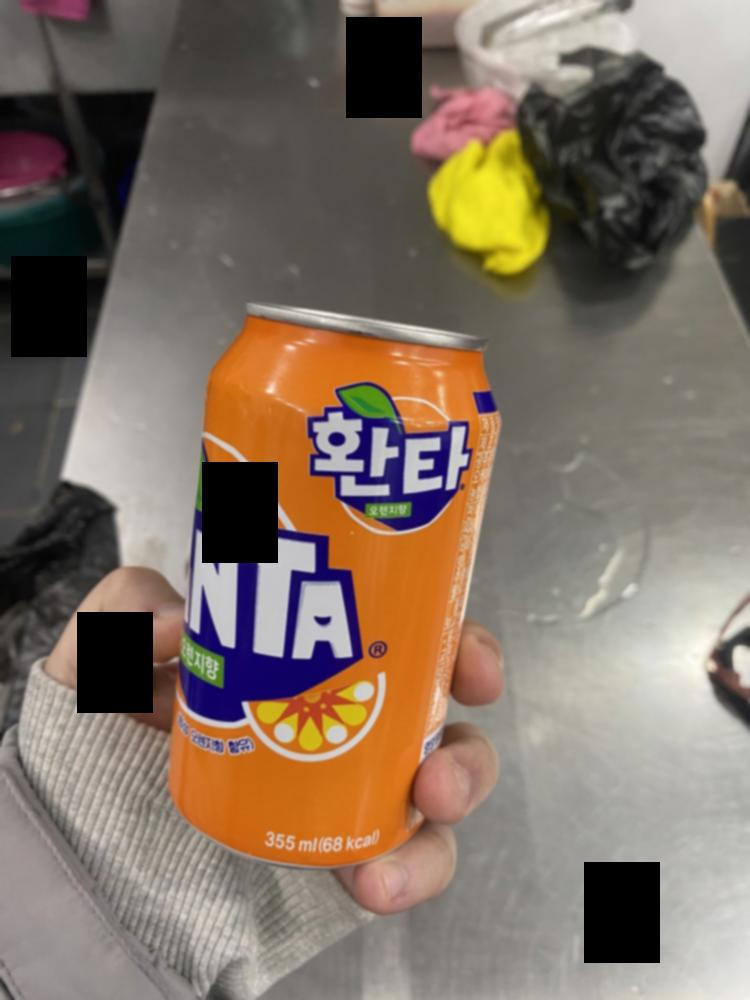fanta_orange: (185, 302, 493, 874)
